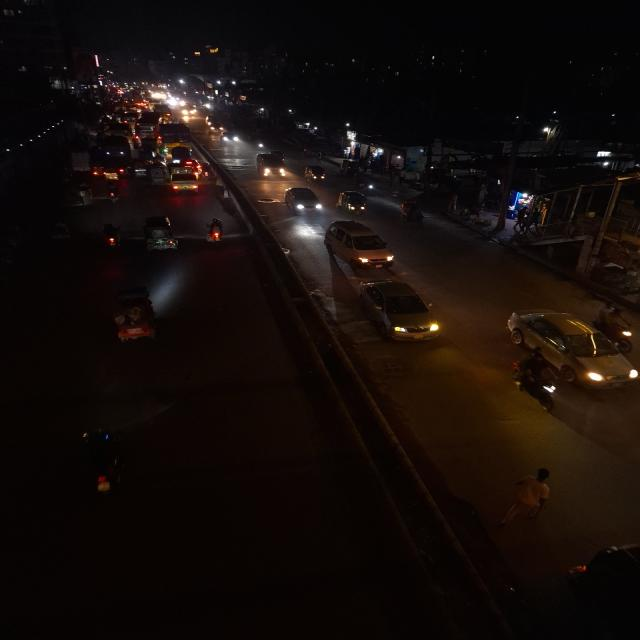car: (502, 305, 640, 392), (355, 277, 445, 345), (321, 218, 398, 270), (280, 185, 325, 217), (254, 150, 291, 181), (165, 144, 198, 168)
cng: (140, 214, 180, 256), (335, 189, 370, 215), (146, 161, 167, 187), (133, 158, 148, 180), (159, 112, 173, 124)
motorcycle: (68, 427, 131, 503), (506, 351, 561, 412), (202, 216, 230, 251), (97, 221, 124, 253), (254, 138, 268, 152)
pedestrian: (496, 464, 560, 528)
pickup_van: (73, 176, 120, 208), (168, 168, 202, 195)
rickshaw: (105, 288, 162, 348), (40, 220, 75, 252), (394, 199, 426, 225), (302, 163, 328, 185)
truck: (90, 135, 132, 180), (156, 122, 190, 148)
